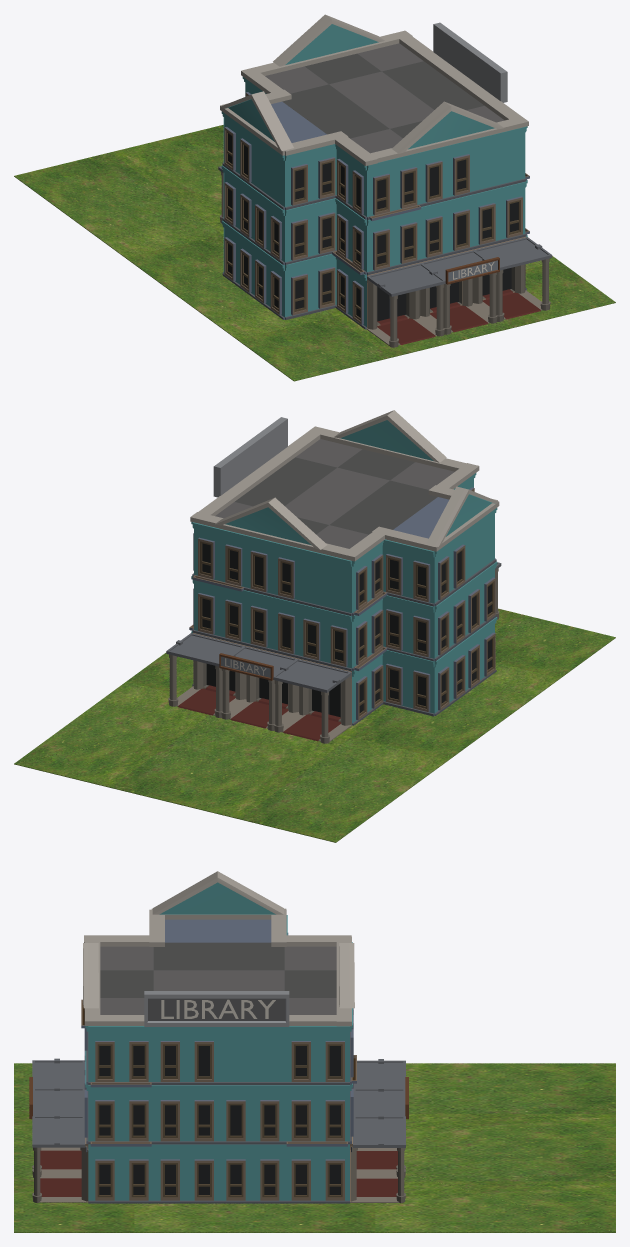
Rendered from kolb.glb.
3 views of the same model, one above another, from view 1: azimuth 30°, elevation 25°; view 2: azimuth 150°, elevation 25°; view 3: azimuth 270°, elevation 25° (orthographic). The views are drawn at different scales.
Visible parts, largest first — view 1: kolb_building, kolb_ground; view 2: kolb_building, kolb_ground; view 3: kolb_building, kolb_ground.
Boxes of the visible parts, x1,y1,x2,y2 form: kolb_building: (218,14,552,347); kolb_ground: (14,125,615,381); kolb_building: (166,410,501,743); kolb_ground: (14,608,615,842); kolb_building: (29,871,408,1203); kolb_ground: (14,1063,615,1232).
Bounding box in the file's own units: 2 × 1.22 × 3.02.
Materials: 2 (2 with a texture image).
